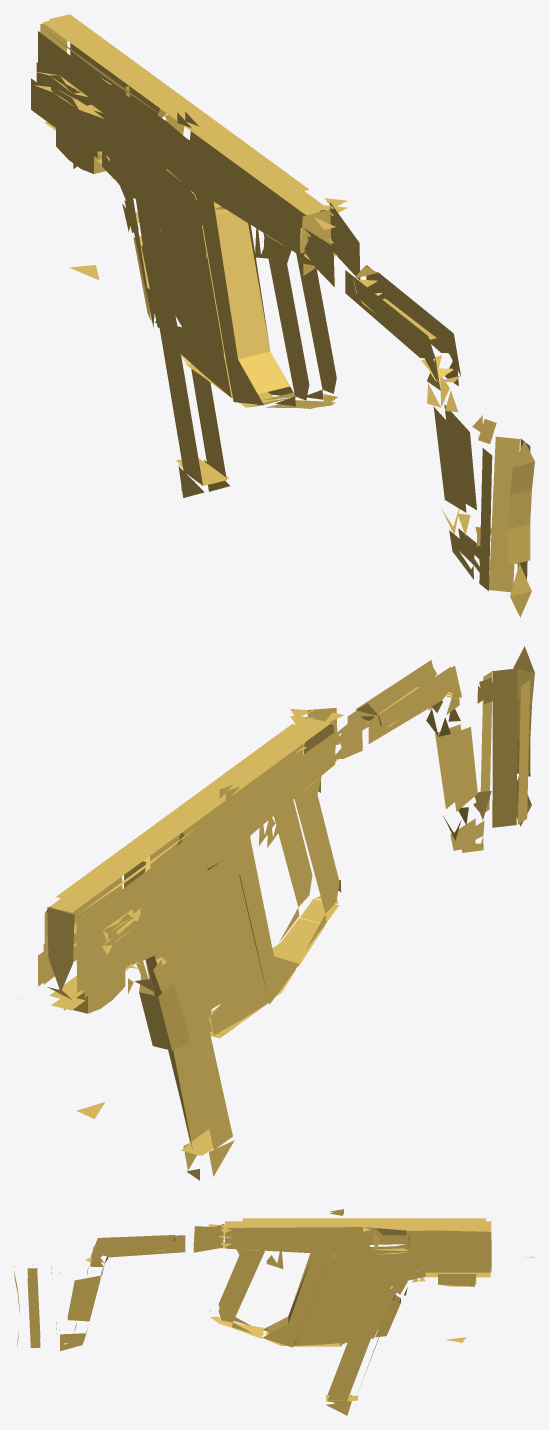
File: charm_mst_subfusil_8.glb
3 renders of one model, top to bottom at view 1: azimuth 30°, elevation 25°; view 2: azimuth 150°, elevation 25°; view 3: azimuth 270°, elevation 25°, orthographic. The views are drawn at different scales.
Parts seen in each view (by area): view 1: p0_paint; view 2: p0_paint; view 3: p0_paint.
Part boxes in pixels (<box>): p0_paint: <box>17,14,534,617</box>; p0_paint: <box>38,646,534,1180</box>; p0_paint: <box>14,1209,534,1415</box>.
Size of the model in its own units: 0.0441 by 0.2541 by 0.6053.
